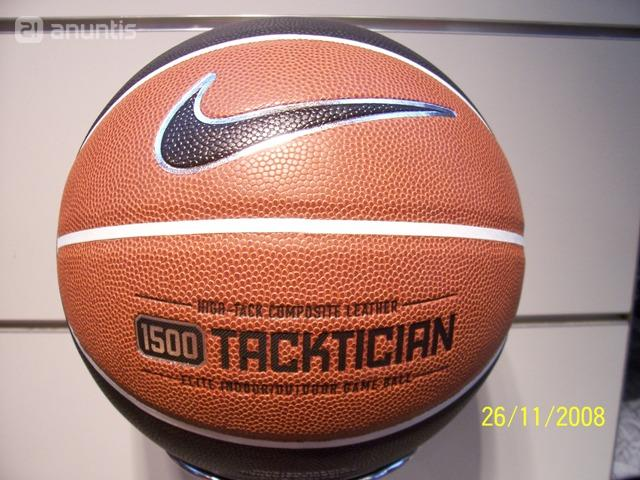basketball: (55, 17, 527, 480)
